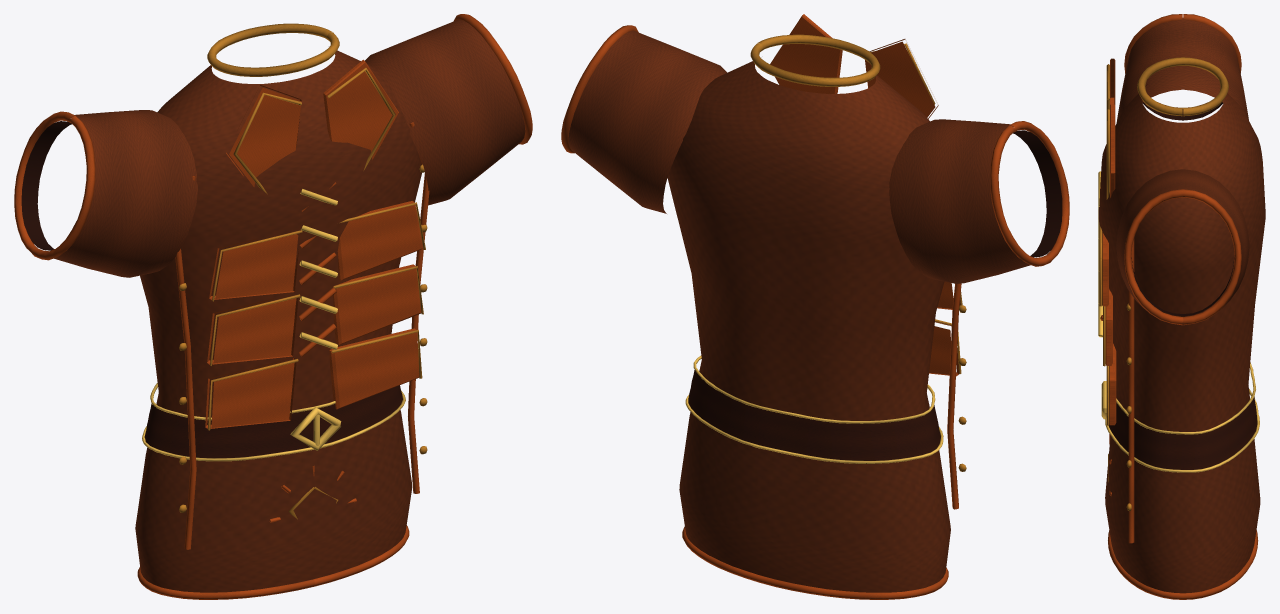
The model's file is spirit_breastplate.glb.
The picture shows the model from 3 angles, left to right: view 1: azimuth 30°, elevation 25°; view 2: azimuth 150°, elevation 25°; view 3: azimuth 270°, elevation 25°; orthographic projection. The views are drawn at different scales.
Visible parts, largest first — view 1: Fitted brown Spirit leather torso, Hollow stitched sleeve (×2), Segmented embossed Spirit chest plate (×6), Folded V-neck collar (×2), Fitted waist belt, Rolled sleeve cuff edge (×2), Side leather fitted seam (×2), Open neckline rolled seam, Brown rolled breastplate hem, Sleeve dark inner cuff, Waist belt sewn piping, Square waist buckle rim; view 2: Fitted brown Spirit leather torso, Hollow stitched sleeve (×2), Fitted waist belt, Folded V-neck collar (×2), Rolled sleeve cuff edge (×2), Open neckline rolled seam, Brown rolled breastplate hem, Sleeve dark inner cuff, Waist belt sewn piping (×2), Side leather fitted seam, Segmented embossed Spirit chest plate; view 3: Fitted brown Spirit leather torso, Hollow stitched sleeve (×2), Fitted waist belt, Rolled sleeve cuff edge (×2), Open neckline rolled seam, Side leather fitted seam, Segmented embossed Spirit chest plate (×3), Waist belt sewn piping (×2), Brown rolled breastplate hem, Folded V-neck collar (×2), Sleeve dark inner cuff (×2), Collar stitched edging (+1 smaller).
Boxes of the visible parts, left/top/right/bottom form: Fitted brown Spirit leather torso: left=135, top=46, right=421, bottom=592; Hollow stitched sleeve (×2): left=54, top=19, right=525, bottom=277; Segmented embossed Spirit chest plate (×6): left=205, top=201, right=423, bottom=428; Folded V-neck collar (×2): left=226, top=59, right=398, bottom=186; Fitted waist belt: left=144, top=385, right=402, bottom=458; Rolled sleeve cuff edge (×2): left=14, top=14, right=532, bottom=260; Side leather fitted seam (×2): left=175, top=122, right=429, bottom=549; Open neckline rolled seam: left=207, top=23, right=339, bottom=76; Brown rolled breastplate hem: left=137, top=525, right=409, bottom=599; Sleeve dark inner cuff: left=21, top=121, right=71, bottom=250; Waist belt sewn piping: left=142, top=390, right=405, bottom=461; Square waist buckle rim: left=290, top=407, right=341, bottom=450; Fitted brown Spirit leather torso: left=667, top=61, right=950, bottom=592; Hollow stitched sleeve (×2): left=568, top=30, right=1030, bottom=283; Fitted waist belt: left=688, top=370, right=940, bottom=460; Folded V-neck collar (×2): left=770, top=14, right=938, bottom=118; Rolled sleeve cuff edge (×2): left=561, top=25, right=1069, bottom=266; Open neckline rolled seam: left=750, top=34, right=880, bottom=86; Brown rolled breastplate hem: left=682, top=526, right=948, bottom=599; Sleeve dark inner cuff: left=1013, top=130, right=1062, bottom=257; Waist belt sewn piping (×2): left=685, top=355, right=943, bottom=463; Side leather fitted seam: left=947, top=283, right=961, bottom=509; Segmented embossed Spirit chest plate: left=929, top=321, right=958, bottom=376; Fitted brown Spirit leather torso: left=1098, top=84, right=1265, bottom=593; Hollow stitched sleeve (×2): left=1116, top=18, right=1249, bottom=322; Fitted waist belt: left=1109, top=397, right=1257, bottom=469; Rolled sleeve cuff edge (×2): left=1124, top=14, right=1241, bottom=325; Open neckline rolled seam: left=1137, top=57, right=1228, bottom=116; Side leather fitted seam: left=1128, top=239, right=1134, bottom=543; Segmented embossed Spirit chest plate (×3): left=1102, top=232, right=1116, bottom=425; Waist belt sewn piping (×2): left=1105, top=362, right=1259, bottom=472; Brown rolled breastplate hem: left=1108, top=530, right=1258, bottom=599; Folded V-neck collar (×2): left=1110, top=58, right=1115, bottom=197; Sleeve dark inner cuff (×2): left=1131, top=102, right=1234, bottom=316; Collar stitched edging: left=1106, top=109, right=1109, bottom=199.
Size of the model in its own units: 60.85 by 61.74 by 20.23.
Materials: 6 (6 with a texture image).
